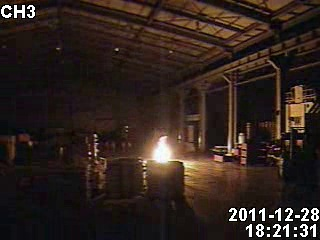fire: (151, 131, 174, 165)
